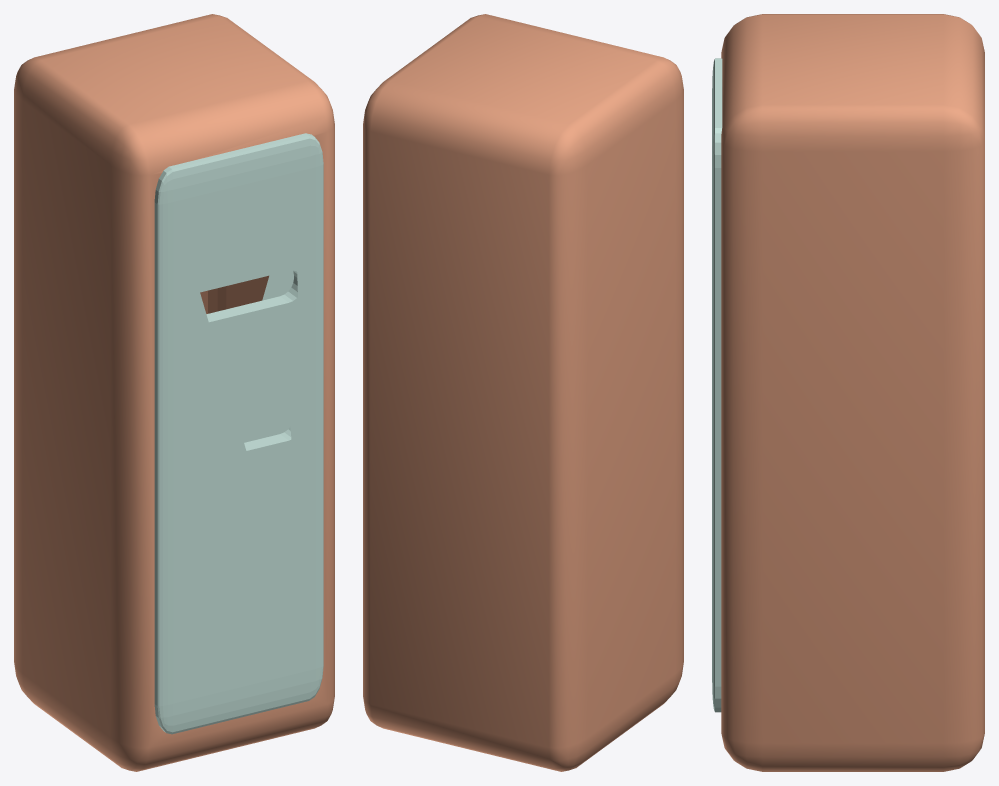
The model's file is hiding_place.fbx.
3 views of the same model, side by side, from view 1: azimuth 30°, elevation 25°; view 2: azimuth 150°, elevation 25°; view 3: azimuth 270°, elevation 25° (orthographic). The views are drawn at different scales.
Parts seen in each view (by area): view 1: Cube.042, Cube.345; view 2: Cube.042; view 3: Cube.042, Cube.345.
Boxes of the visible parts, x1,y1,x2,y2 form: Cube.042: (14,14,334,771); Cube.345: (154,133,323,734); Cube.042: (363,14,683,771); Cube.042: (721,14,984,771); Cube.345: (712,58,722,712).
Size of the model in its own units: 519 by 1479 by 549.
